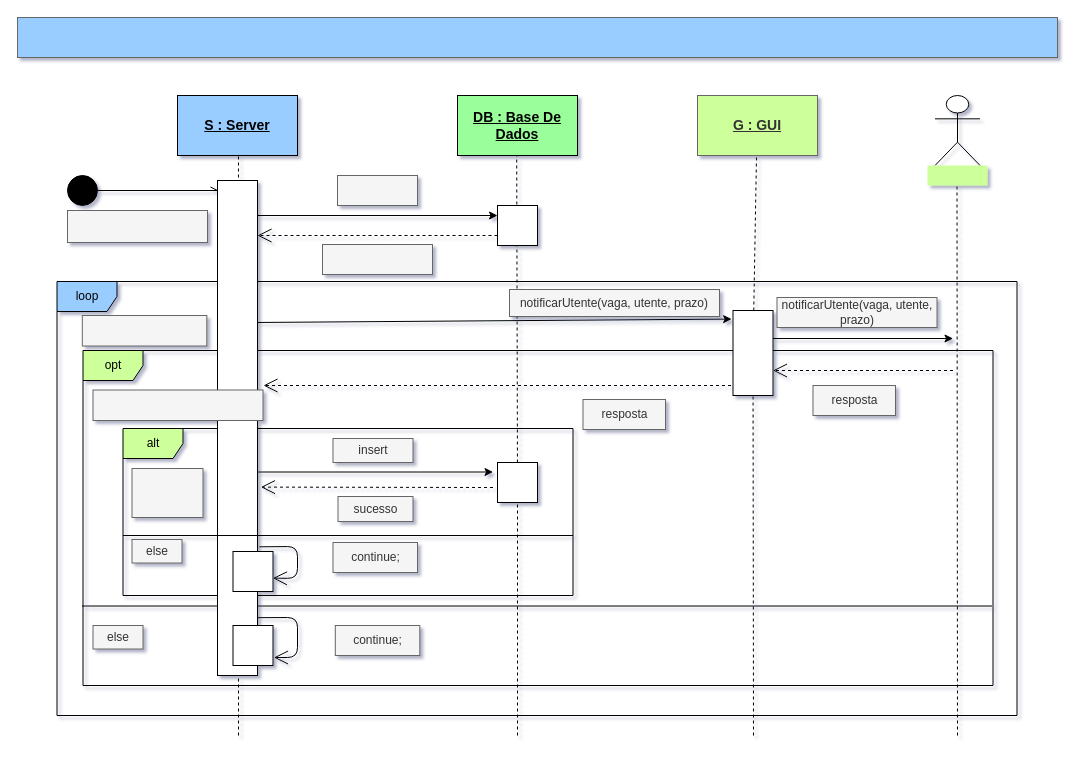
The diagram is 1081 pixels wide and 760 high, and some of its shapes have lost their labels. The shapes that lost their labels are listed below. From the top down, each one's centre as x and y in pixels, then its label:
the point at 537,37: ENCHER VAGAS | LISTA DE ESPERA
the point at 377,190: select
the point at 957,175: utente
the point at 137,226: encherVagasAEspera()
the point at 377,259: lista de espera
the point at 144,330: [!Resposta Positiva]
the point at 177,404: [Respondeu dentro do prazo]
the point at 167,493: [Resposta Positiva]
